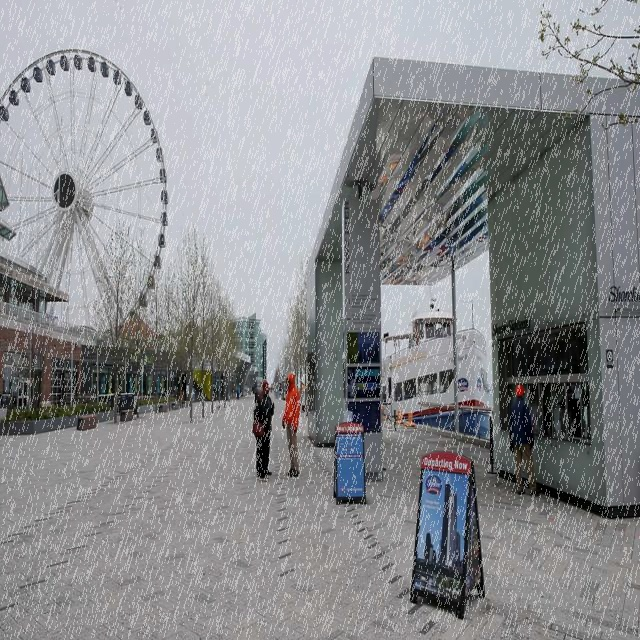pessoa: (508, 382, 540, 498), (544, 382, 589, 440), (281, 371, 302, 478), (251, 384, 270, 482), (262, 379, 276, 477), (351, 333, 382, 363), (126, 373, 152, 395), (101, 373, 120, 395), (172, 386, 195, 400), (154, 372, 168, 393), (80, 386, 98, 400), (231, 382, 244, 399), (394, 384, 407, 400), (269, 382, 277, 396), (254, 384, 262, 396)
